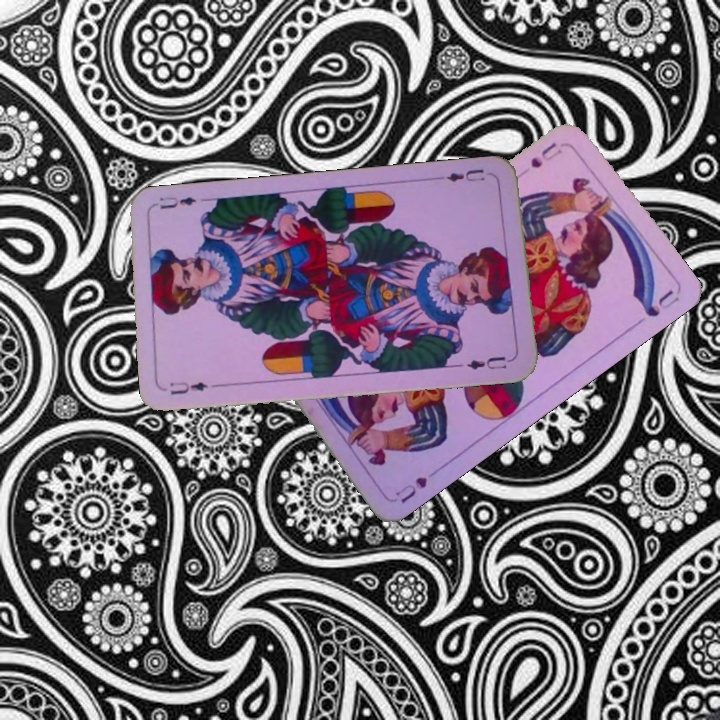EU: (442, 165, 496, 185), (166, 377, 210, 397)
SU: (391, 462, 445, 506), (526, 138, 565, 171)
